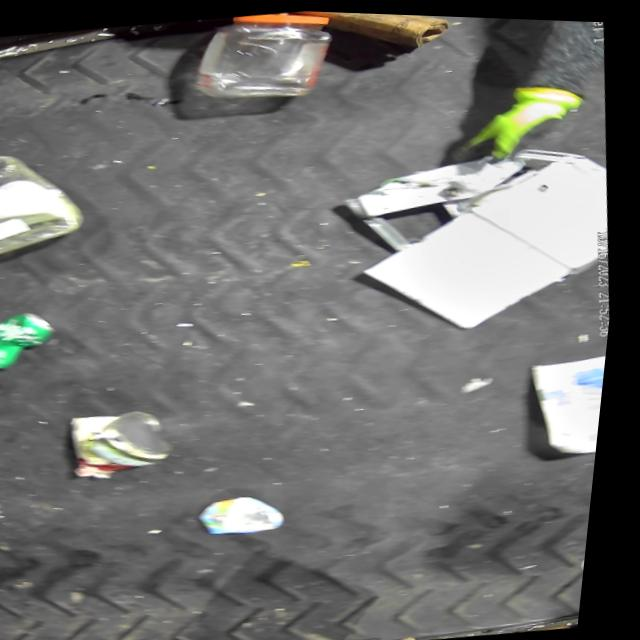can: (63, 400, 192, 486), (0, 303, 71, 381)
